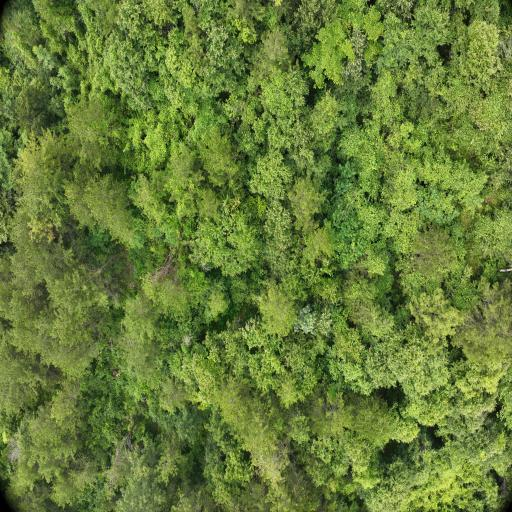dead-tree: (159, 264, 178, 280), (126, 434, 133, 450)
